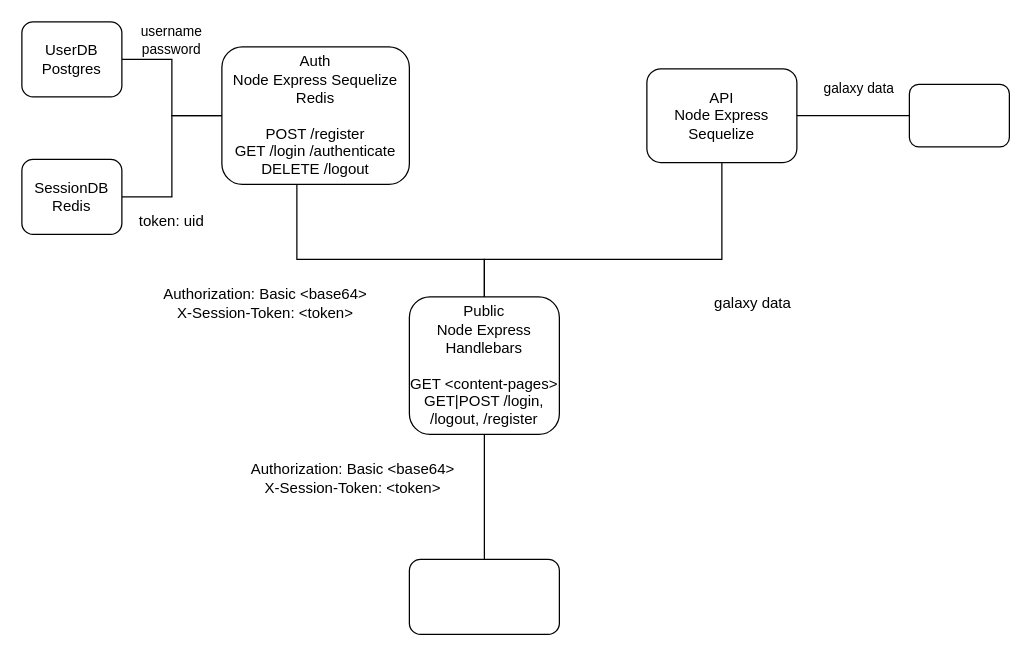
Image size: 1031x656. Some labels were removed from this diagram. Here are the shapes that lost their labels. From the top down, the centre of each, then its label:
At point (958, 115): "GalaxyDB Postgres".
At point (483, 596): "Client".
